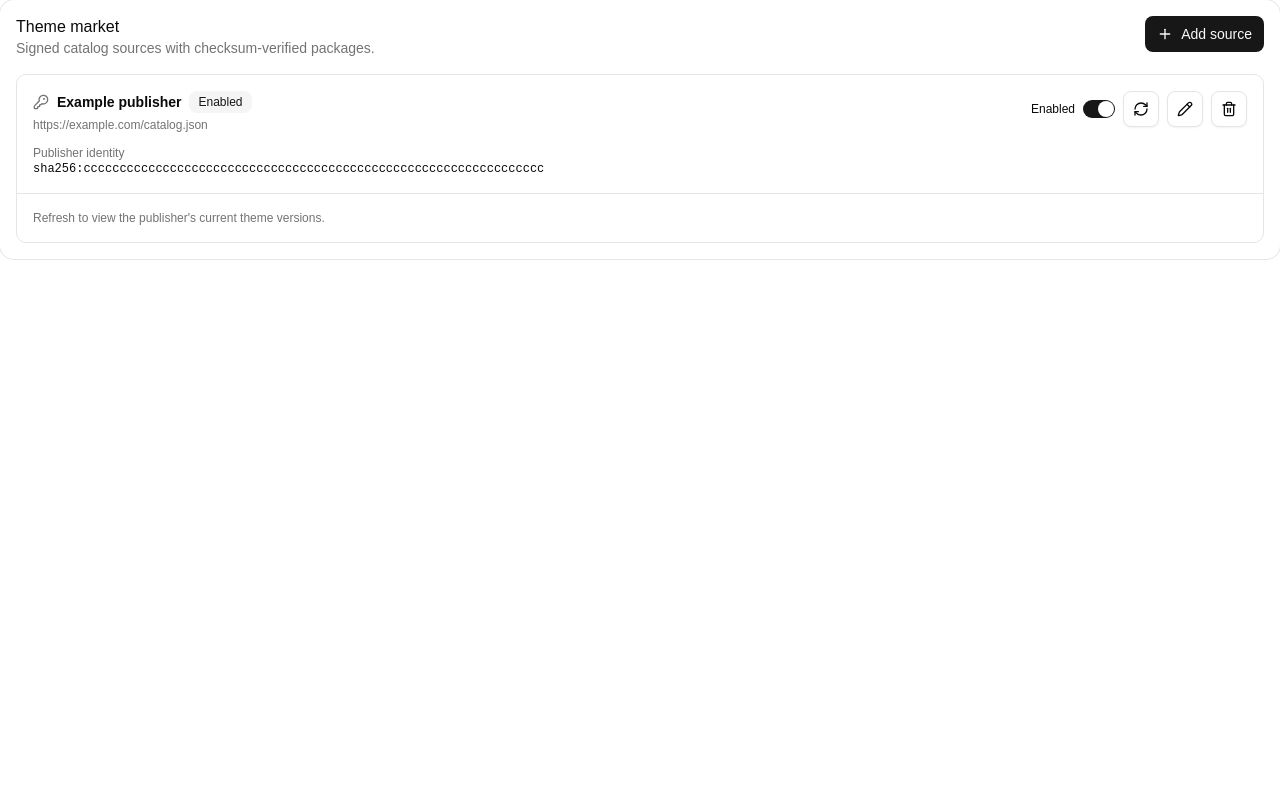
Test: verified theme market › supports empty catalogs and disables refresh for disabled sources
The image size is (1280, 800).
Step 1. Click the button named "Refresh catalog" → {"x": 1141, "y": 109}, box [1123,91,1159,127]
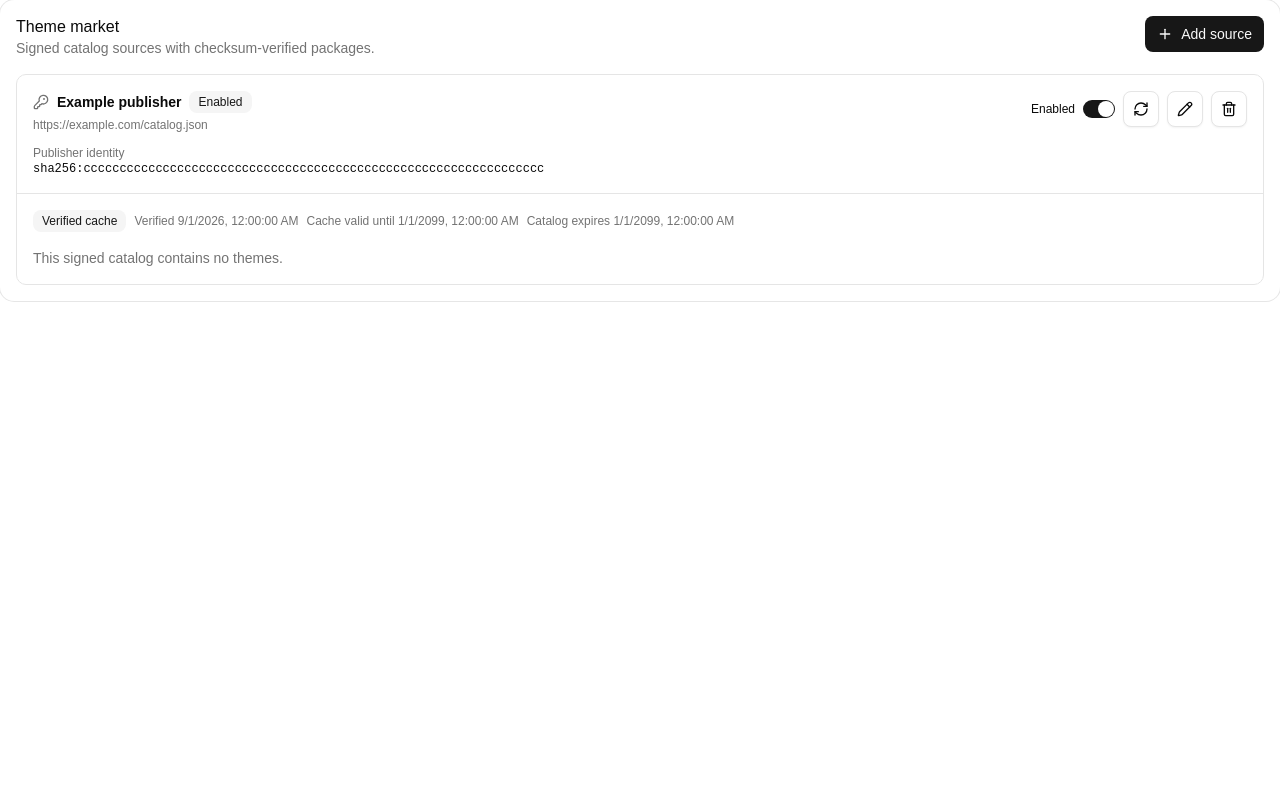
Check: the text "This signed catalog contains no themes." is shown, box [33,250,283,266]
Step 2. Click the switch → {"x": 1099, "y": 109}, box [1083,100,1115,118]
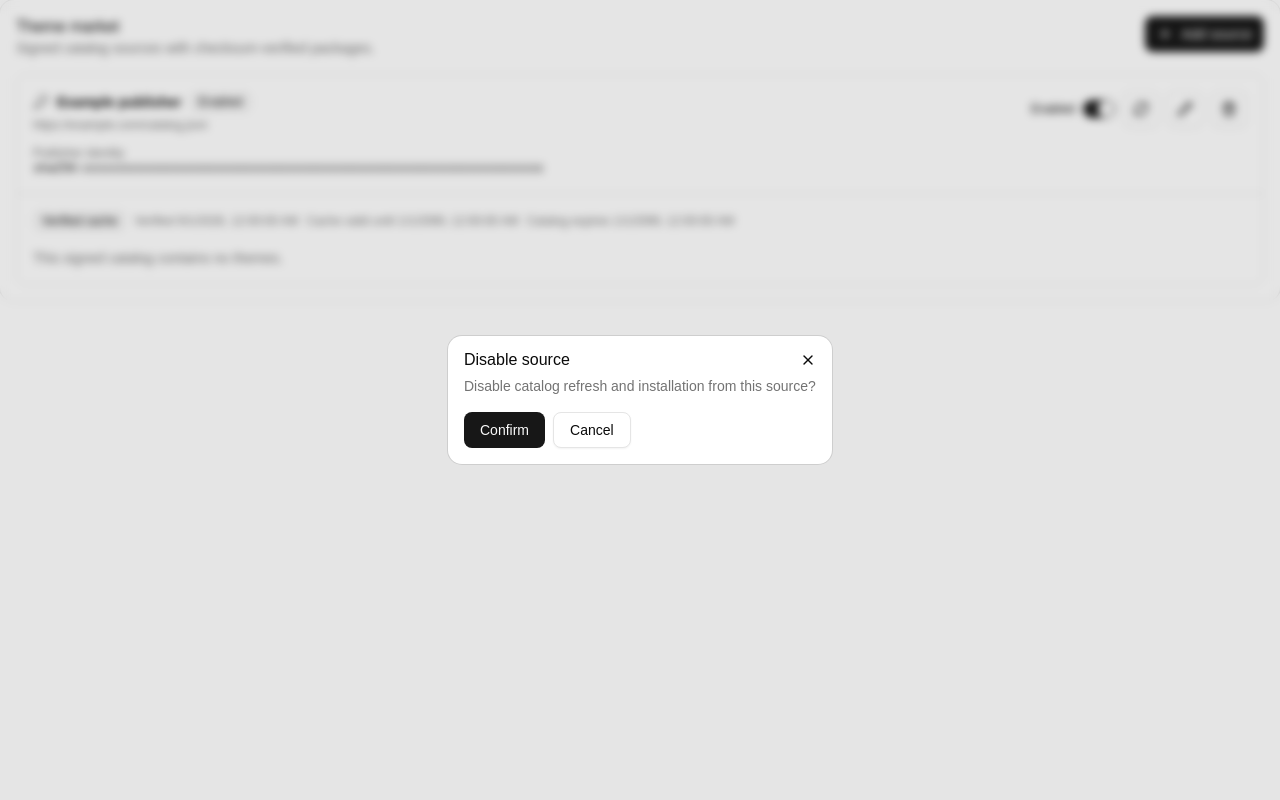
Step 3. Click the button "Confirm" → {"x": 504, "y": 430}, box [464,412,545,448]
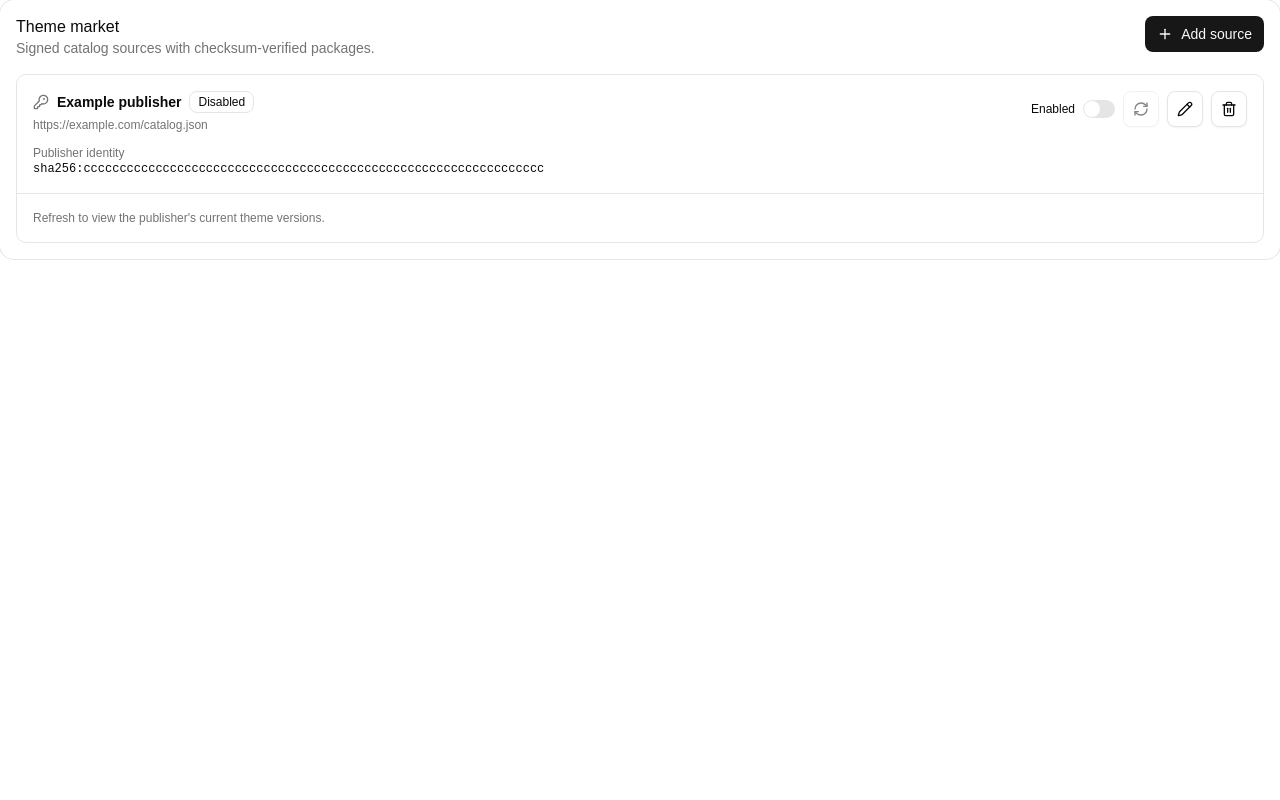
Check: the button named "Refresh catalog" is disabled, box [1123,91,1159,127]
